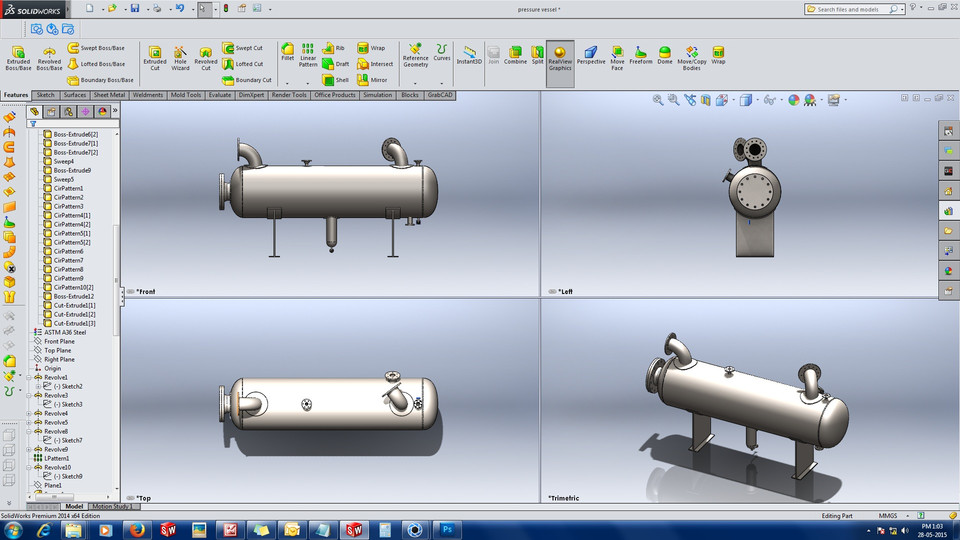nozzle: (716, 355, 744, 382), (292, 153, 321, 174), (298, 394, 318, 415)
